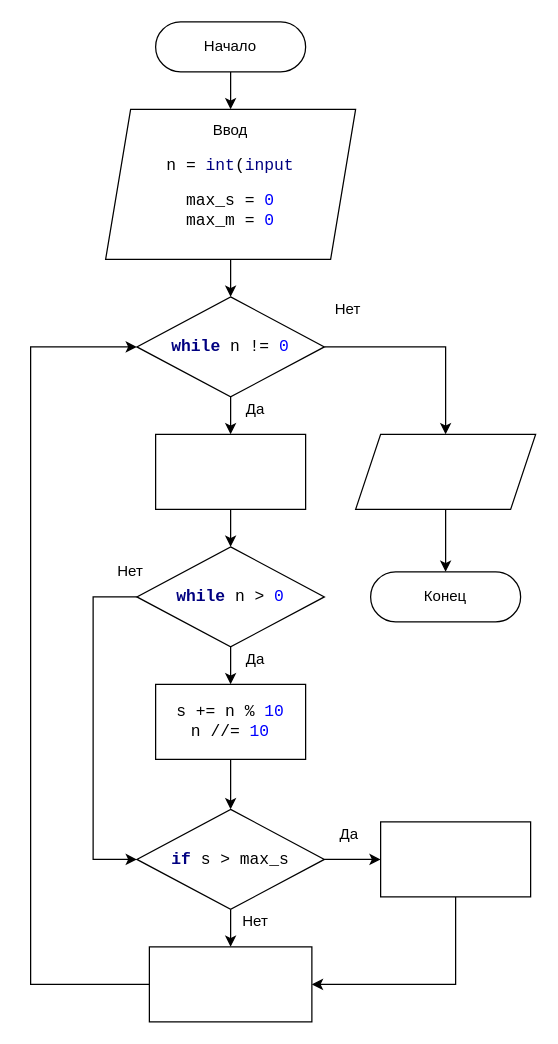
The diagram is 558 pixels wide and 1044 high, and some of its shapes have lost their labels. Each missing label, with the box of its shape:
m = n s = 0: (154, 433, 306, 509)
max_s = s max_m = m: (379, 821, 531, 897)
n = int ( input(): (148, 946, 312, 1022)
print(max_m, max_s): (354, 433, 536, 509)
